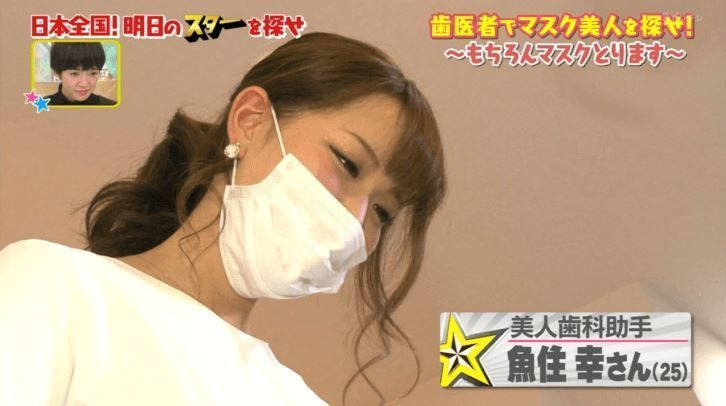mask: (220, 157, 368, 301)
